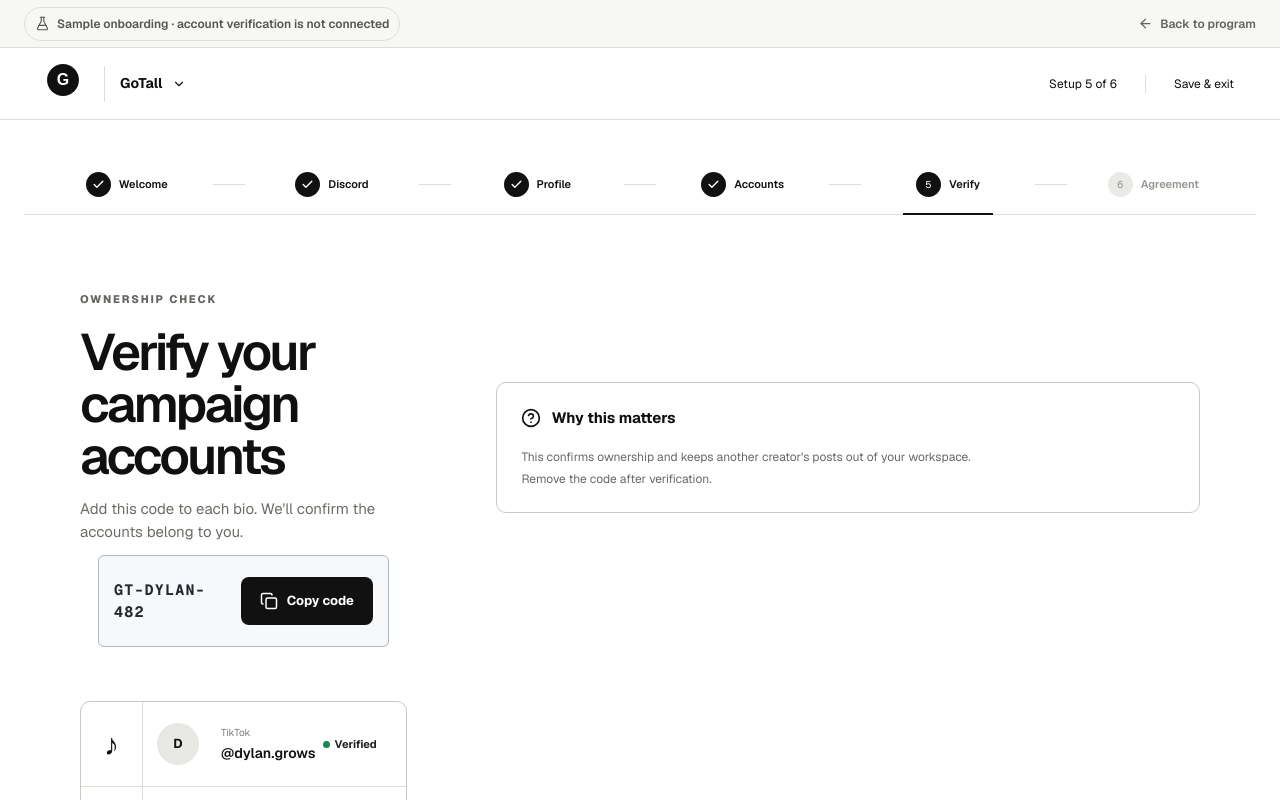
account verification preview › does not claim success when clipboard access fails
Click the button "Copy code". click: {"x": 307, "y": 601}
box: [241,577,373,625]
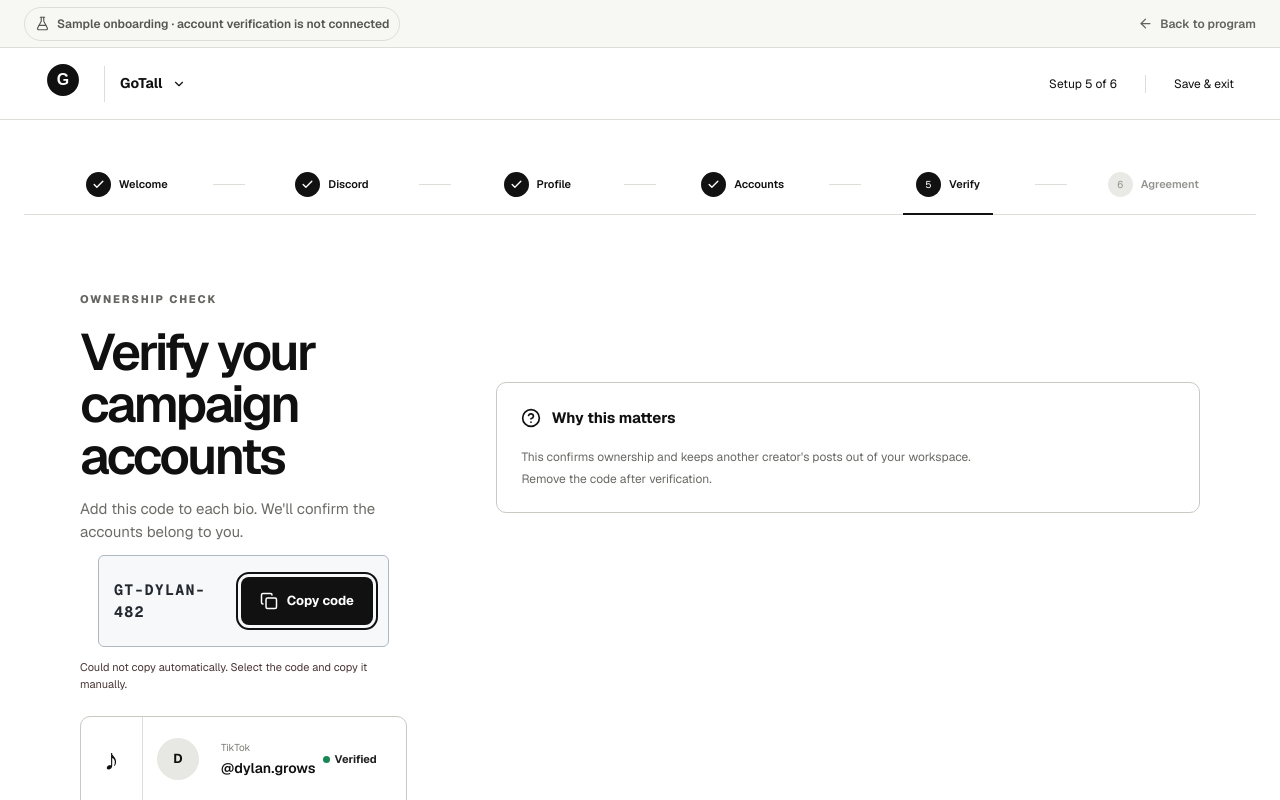
Expected: the text "Could not copy automatically. Select the code and copy it manually." is shown, [80,659,407,692]
